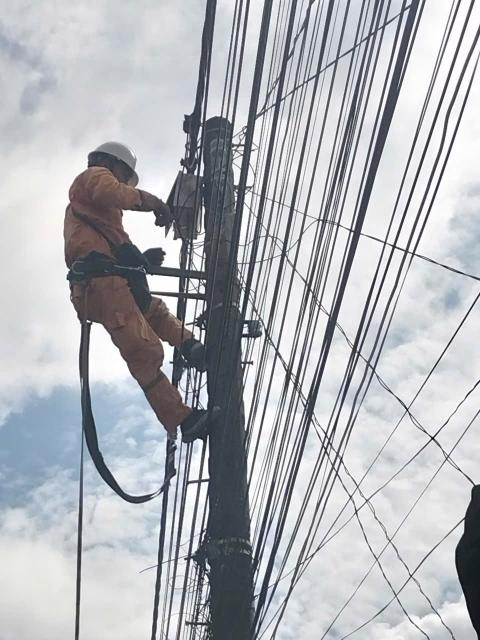gloves: (86, 131, 143, 182), (149, 198, 178, 230)
harness: (62, 248, 214, 289), (142, 242, 168, 263)
shoes: (172, 326, 220, 378), (168, 401, 225, 442)
